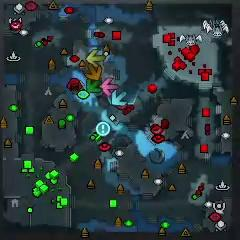x1: (101, 78, 119, 95)
x2: (86, 49, 107, 67)
x3: (111, 90, 127, 106)
x4: (86, 79, 102, 95)
x5: (86, 64, 102, 80)
